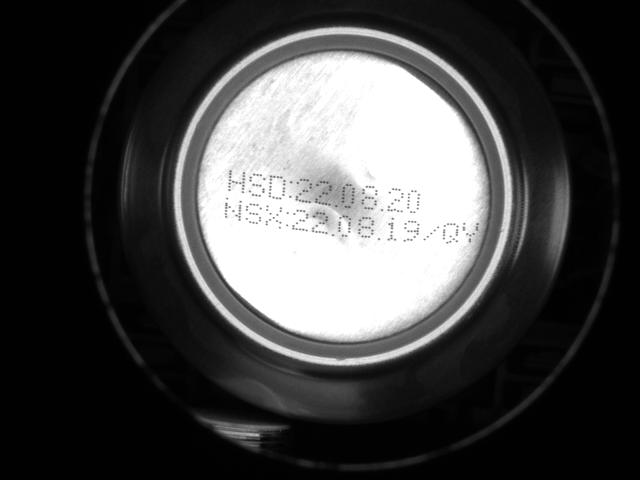.: (333, 197, 340, 208), (329, 226, 336, 237), (378, 200, 385, 211), (375, 229, 382, 240)
/: (422, 224, 441, 244)
0: (341, 180, 355, 209), (337, 209, 351, 238), (406, 186, 420, 215)
1: (386, 215, 398, 242)
2: (294, 177, 312, 204), (290, 206, 308, 233), (313, 178, 331, 205), (311, 208, 329, 235), (386, 186, 404, 213)
8: (360, 183, 378, 211), (356, 214, 374, 242)
9: (402, 219, 421, 245)
:: (287, 179, 294, 199), (283, 207, 290, 227)
D: (267, 173, 286, 201)
H: (226, 168, 247, 195)
N: (223, 195, 242, 222)
Q: (441, 220, 461, 247)
S: (248, 171, 266, 198), (244, 199, 262, 226)
X: (264, 203, 283, 230)
Y: (461, 219, 481, 247)
